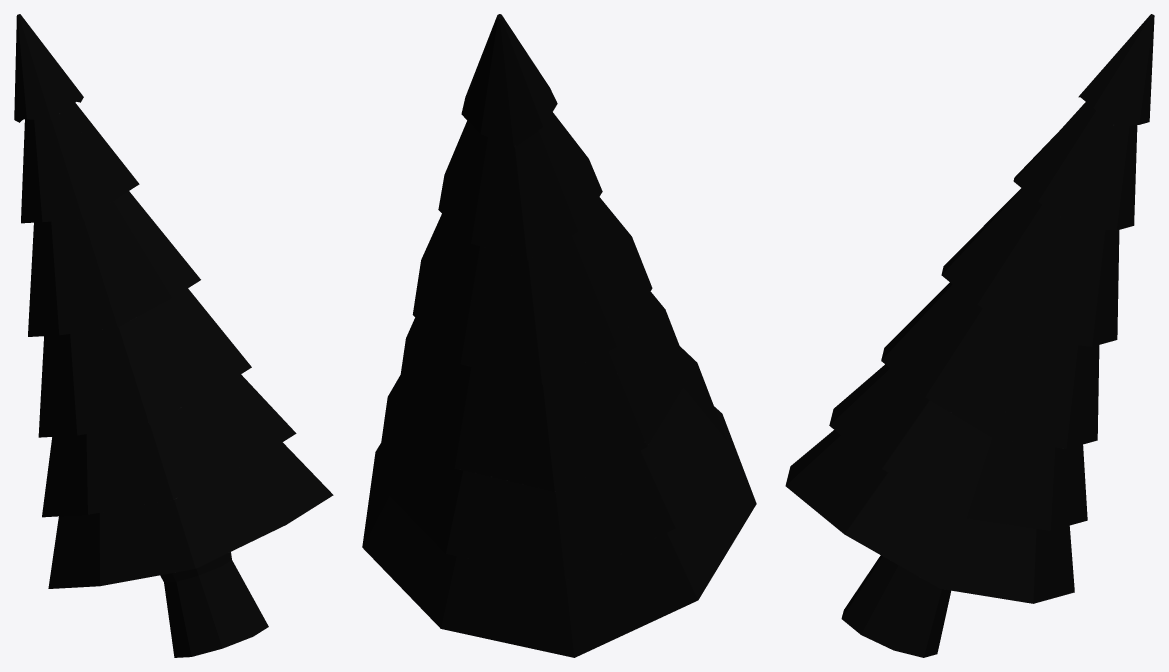
Rendered from lowpolytree.fbx.
3 views of the same model, side by side, from view 1: azimuth 30°, elevation 25°; view 2: azimuth 150°, elevation 25°; view 3: azimuth 270°, elevation 25° (orthographic). The views are drawn at different scales.
Parts seen in each view (by area): view 1: node_id7 (×2); view 2: node_id7; view 3: node_id7 (×2).
Boxes of the visible parts, left/top/right/bottom form: node_id7 (×2): left=14, top=14, right=333, bottom=657; node_id7: left=362, top=14, right=756, bottom=657; node_id7 (×2): left=785, top=14, right=1154, bottom=657.
Size of the model in its own units: 0.2271 by 0.485 by 0.2708.
Materials: 2 (2 with a texture image).
